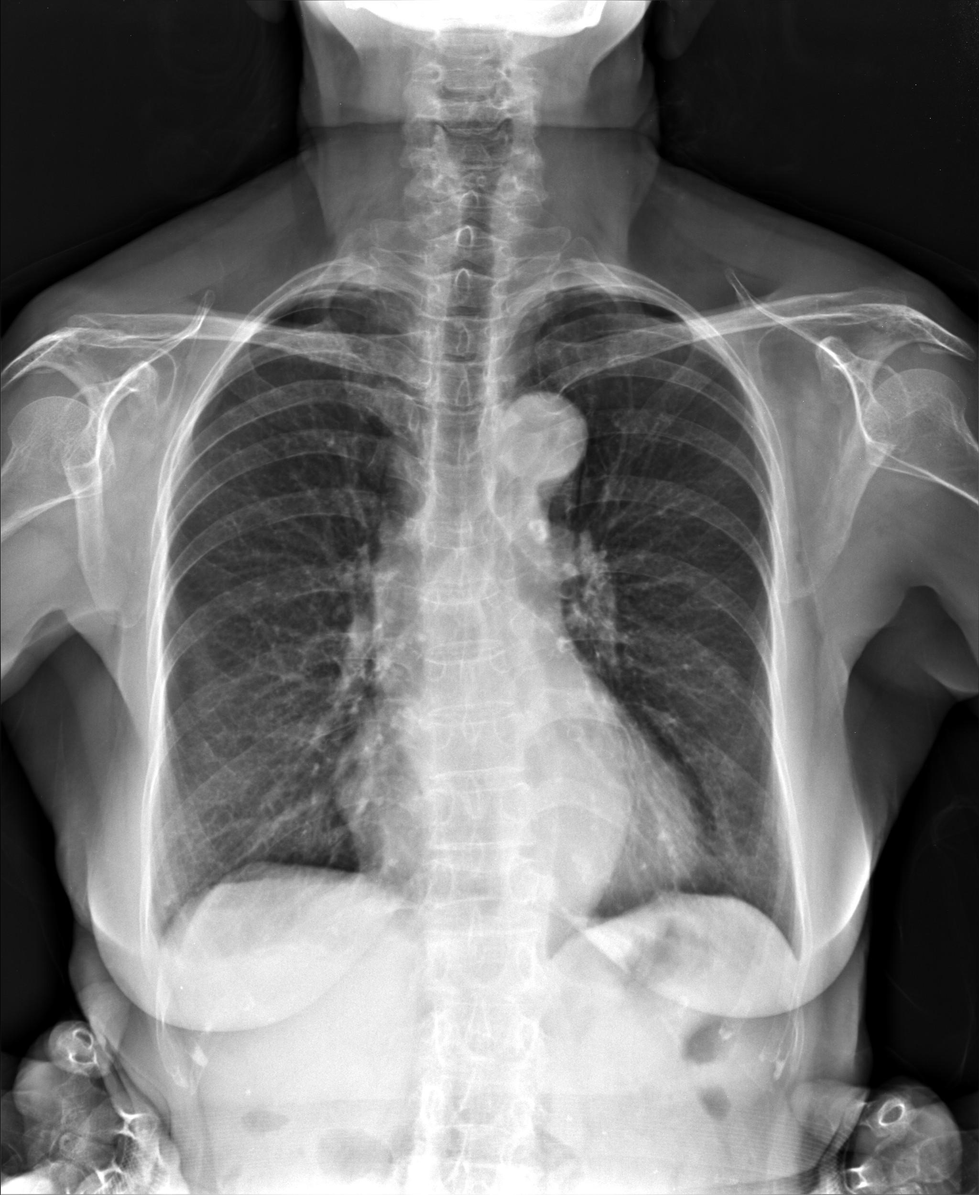Aortic enlargement: (477, 391, 590, 487)
Cardiomegaly: (329, 740, 701, 906)
Pleural thickening: (554, 280, 662, 304), (281, 282, 381, 304), (141, 923, 170, 973)
